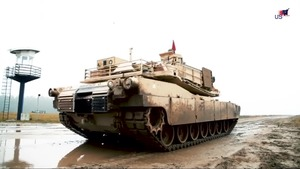abrams: (45, 51, 243, 145)
